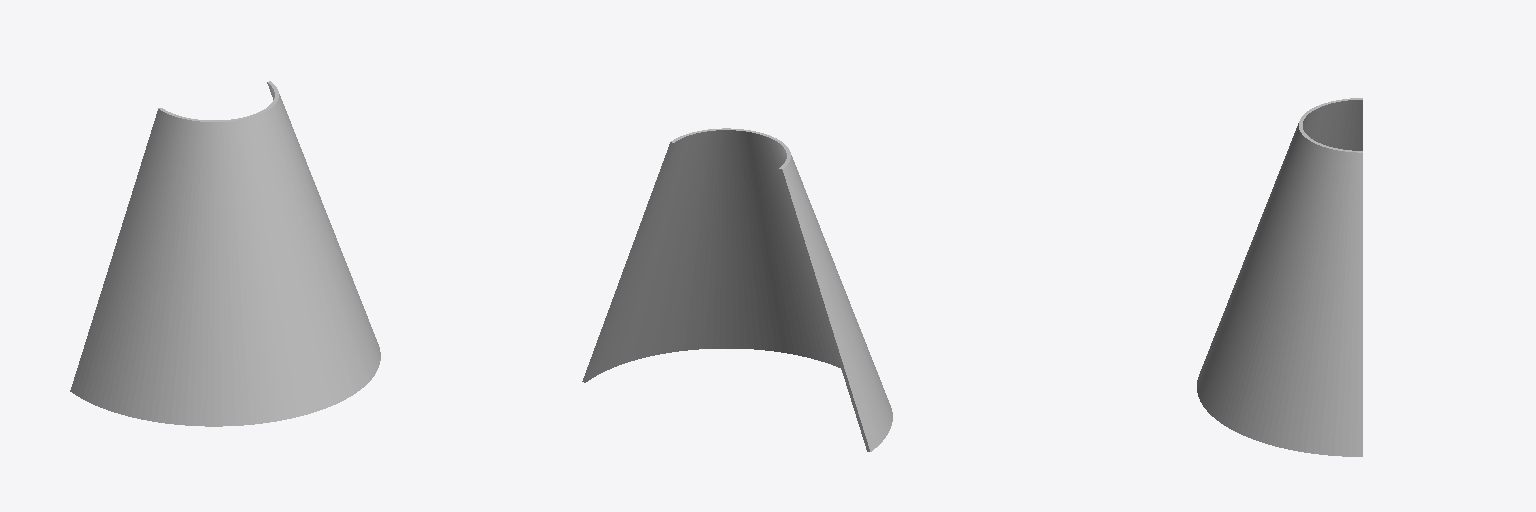
Rendered from Cover_Sheet.obj.
3 renders of one model, left to right at view 1: azimuth 30°, elevation 25°; view 2: azimuth 150°, elevation 25°; view 3: azimuth 270°, elevation 25°, orthographic.
Parts seen in each view (by area): view 1: mesh2; view 2: mesh2; view 3: mesh2.
Boxes of the visible parts, box(x1,y1,x2,y2) form: mesh2: box(70, 81, 380, 426); mesh2: box(582, 128, 892, 451); mesh2: box(1197, 98, 1362, 456).
Size of the model in its own units: 0.1633 by 0.1414 by 0.0817.